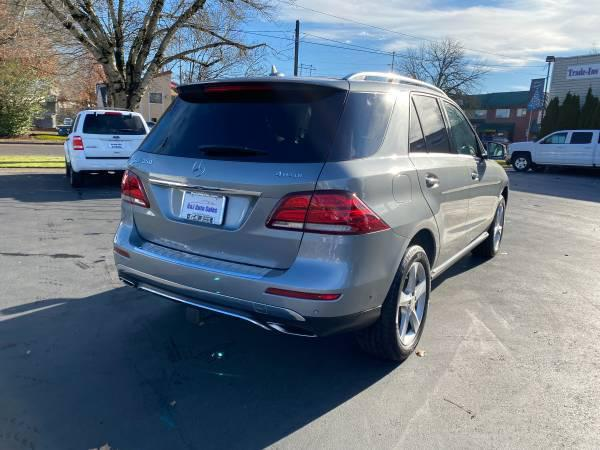Front_Right_Door: (458, 160, 499, 253)
Front_Right_Window: (443, 100, 495, 163)
Left_Taillight: (120, 170, 151, 210)
Rear_Bumper: (112, 202, 409, 336)
Rear_Fender: (317, 92, 426, 239)
Rear_Right_Door: (410, 154, 471, 277)
Rear_Right_Window: (410, 94, 461, 155)
Rear_Windshield: (135, 78, 347, 166)
Right_Taillight: (265, 191, 389, 237)
Roof: (301, 73, 458, 159)
Tailgate: (129, 153, 328, 270)
Wheel: (383, 245, 434, 356), (486, 198, 504, 255)
